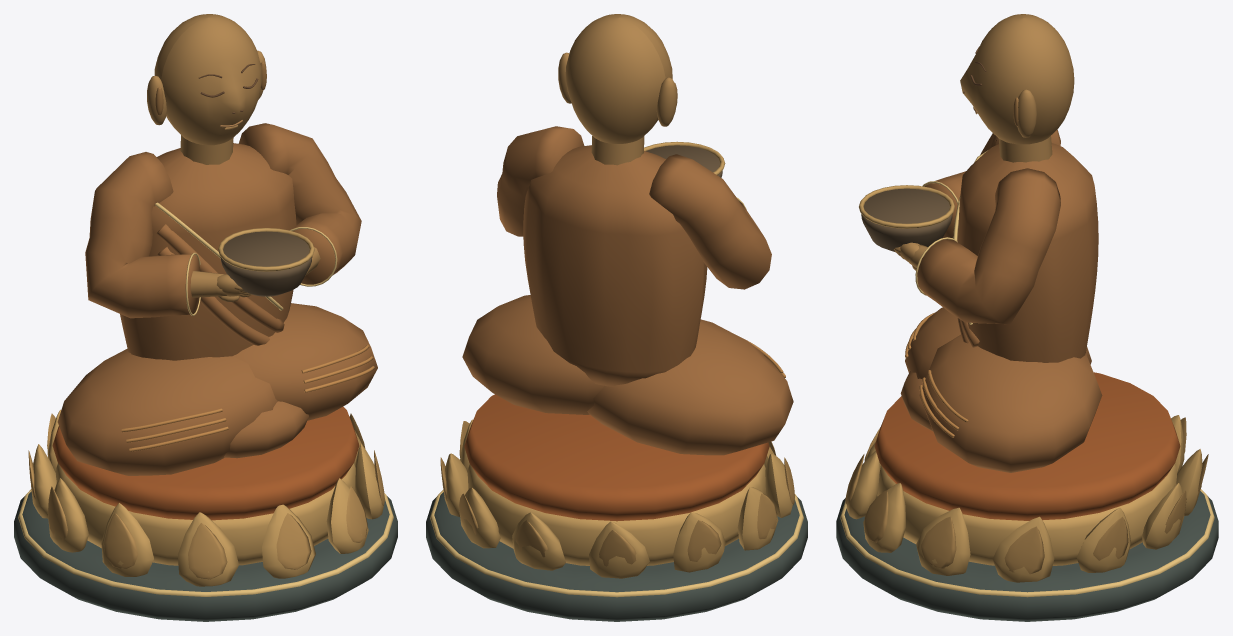
The model's file is arhat_03_lod1.glb.
3 renders of one model, left to right at view 1: azimuth 30°, elevation 25°; view 2: azimuth 150°, elevation 25°; view 3: azimuth 270°, elevation 25°, orthographic.
Visible parts, largest first — view 1: arhat_03_ArhatDrapery, arhat_03_AntiqueGold, arhat_03_CarvedPlinth, arhat_03_SaffronDrapery, arhat_03_WarmBronze, arhat_03_GoldPetalRelief, arhat_03_PatinatedBowl, arhat_03_RaisedGoldBorders, arhat_03_DraperyFoldHighlights; view 2: arhat_03_ArhatDrapery, arhat_03_SaffronDrapery, arhat_03_CarvedPlinth, arhat_03_AntiqueGold, arhat_03_WarmBronze, arhat_03_GoldPetalRelief, arhat_03_RaisedGoldBorders, arhat_03_PatinatedBowl; view 3: arhat_03_ArhatDrapery, arhat_03_SaffronDrapery, arhat_03_AntiqueGold, arhat_03_CarvedPlinth, arhat_03_WarmBronze, arhat_03_GoldPetalRelief, arhat_03_PatinatedBowl, arhat_03_RaisedGoldBorders, arhat_03_DraperyFoldHighlights.
Part boxes in pixels (x1=…): arhat_03_ArhatDrapery: x1=57, y1=123, x2=377, y2=475; arhat_03_AntiqueGold: x1=31, y1=228, x2=385, y2=586; arhat_03_CarvedPlinth: x1=14, y1=491, x2=397, y2=621; arhat_03_SaffronDrapery: x1=52, y1=406, x2=359, y2=520; arhat_03_WarmBronze: x1=147, y1=14, x2=320, y2=301; arhat_03_GoldPetalRelief: x1=28, y1=413, x2=384, y2=579; arhat_03_PatinatedBowl: x1=220, y1=231, x2=312, y2=296; arhat_03_RaisedGoldBorders: x1=18, y1=202, x2=393, y2=596; arhat_03_DraperyFoldHighlights: x1=121, y1=345, x2=374, y2=451; arhat_03_ArhatDrapery: x1=462, y1=126, x2=793, y2=455; arhat_03_SaffronDrapery: x1=464, y1=394, x2=769, y2=521; arhat_03_CarvedPlinth: x1=426, y1=492, x2=807, y2=621; arhat_03_AntiqueGold: x1=442, y1=141, x2=795, y2=578; arhat_03_WarmBronze: x1=558, y1=14, x2=676, y2=165; arhat_03_GoldPetalRelief: x1=440, y1=421, x2=794, y2=566; arhat_03_RaisedGoldBorders: x1=430, y1=197, x2=803, y2=597; arhat_03_PatinatedBowl: x1=646, y1=145, x2=722, y2=177; arhat_03_ArhatDrapery: x1=900, y1=129, x2=1102, y2=472; arhat_03_SaffronDrapery: x1=874, y1=372, x2=1180, y2=520; arhat_03_AntiqueGold: x1=846, y1=185, x2=1202, y2=582; arhat_03_CarvedPlinth: x1=836, y1=491, x2=1218, y2=621; arhat_03_WarmBronze: x1=894, y1=14, x2=1074, y2=270; arhat_03_GoldPetalRelief: x1=845, y1=417, x2=1208, y2=574; arhat_03_PatinatedBowl: x1=861, y1=188, x2=952, y2=252; arhat_03_RaisedGoldBorders: x1=840, y1=150, x2=1214, y2=597; arhat_03_DraperyFoldHighlights: x1=905, y1=312, x2=968, y2=437.
Bounding box in the file's own units: 0.92 × 1.4 × 0.92.
